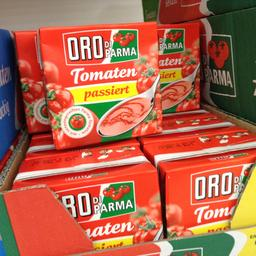tomato_sauce: (38, 20, 164, 148), (10, 146, 166, 244), (140, 126, 254, 236)
